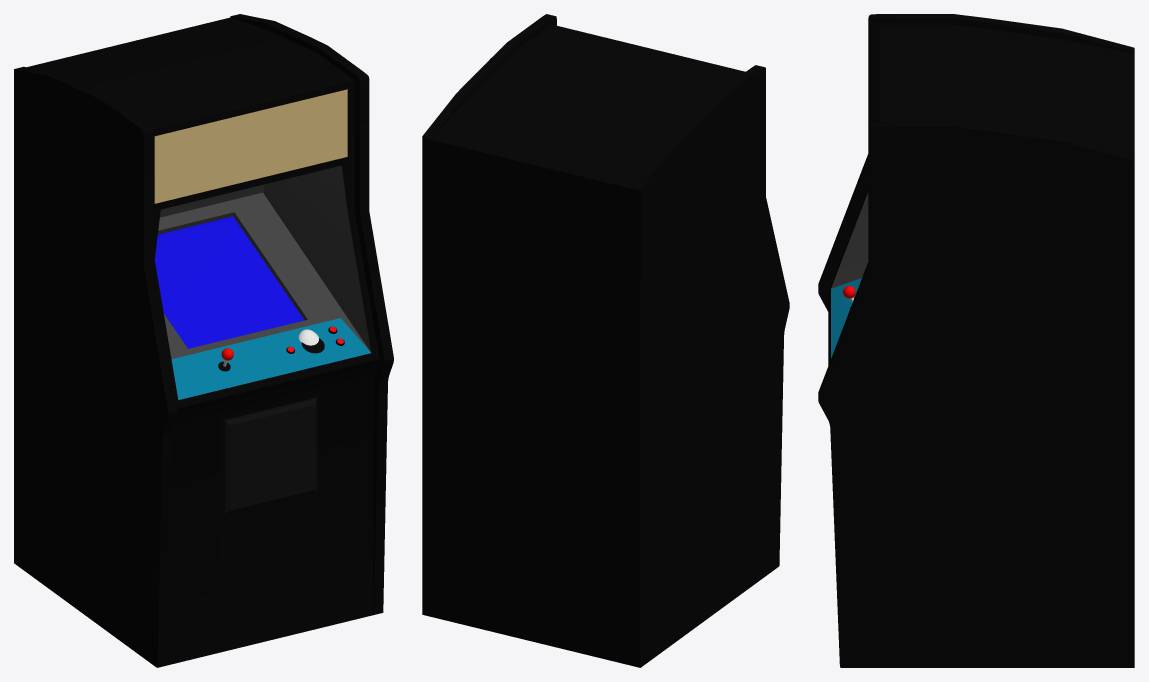
The model's file is cabinet.FBX.
3 renders of one model, left to right at view 1: azimuth 30°, elevation 25°; view 2: azimuth 150°, elevation 25°; view 3: azimuth 270°, elevation 25°, orthographic. The views are drawn at different scales.
Visible parts, largest first — view 1: Box001; view 2: Box001; view 3: Box001.
Boxes of the visible parts, x1,y1,x2,y2 form: Box001: (14, 14, 393, 667); Box001: (422, 14, 789, 667); Box001: (818, 14, 1134, 667).
Size of the model in its own units: 32.63 by 72.87 by 38.65.
